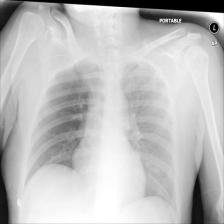normal: (24, 60, 181, 212)
